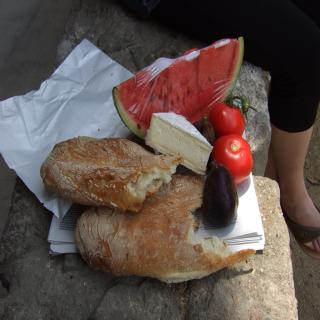tomato: (212, 132, 252, 186), (212, 96, 246, 138)
